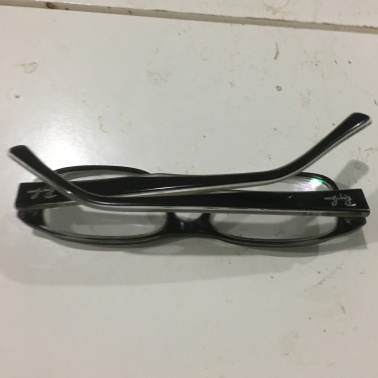glasses: (10, 140, 369, 254)
